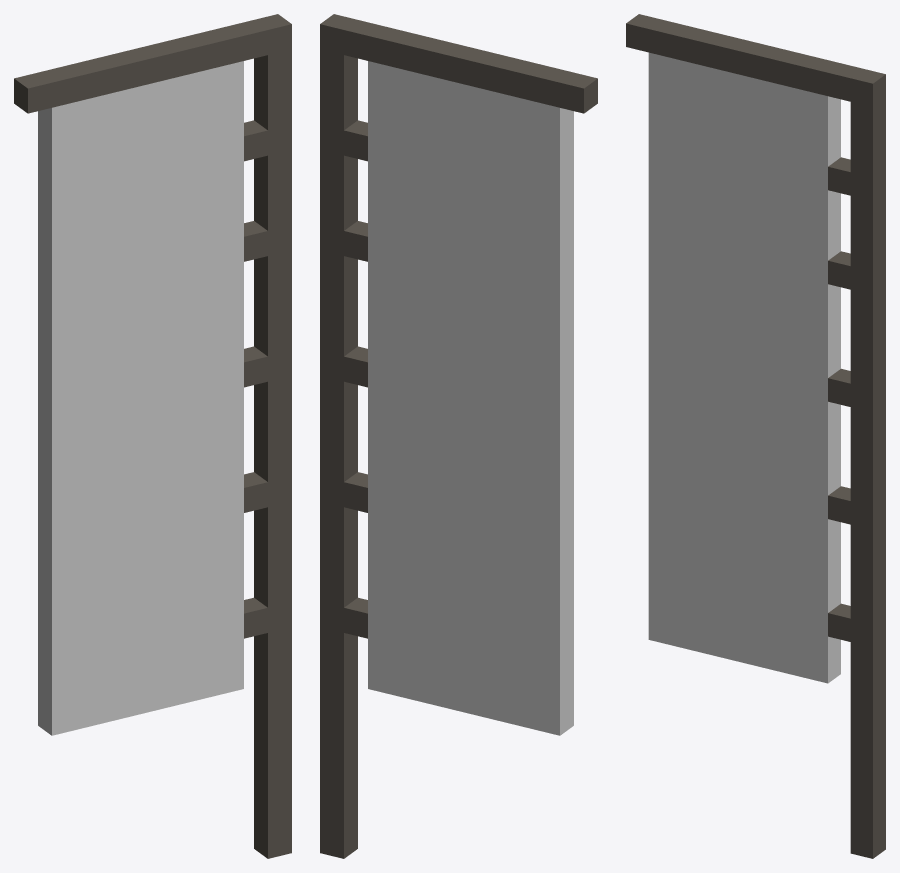
Rendered from flag.obj.
3 views of the same model, side by side, from view 1: azimuth 30°, elevation 25°; view 2: azimuth 150°, elevation 25°; view 3: azimuth 330°, elevation 25° (orthographic). The views are drawn at different scales.
Bounding box in the file's own units: 1.1 × 3.3 × 0.1.
Materials: 1 (1 with a texture image).
